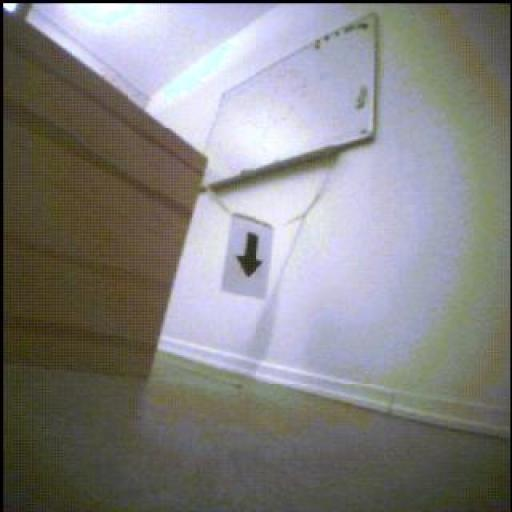Arrow: (238, 233, 263, 278)
